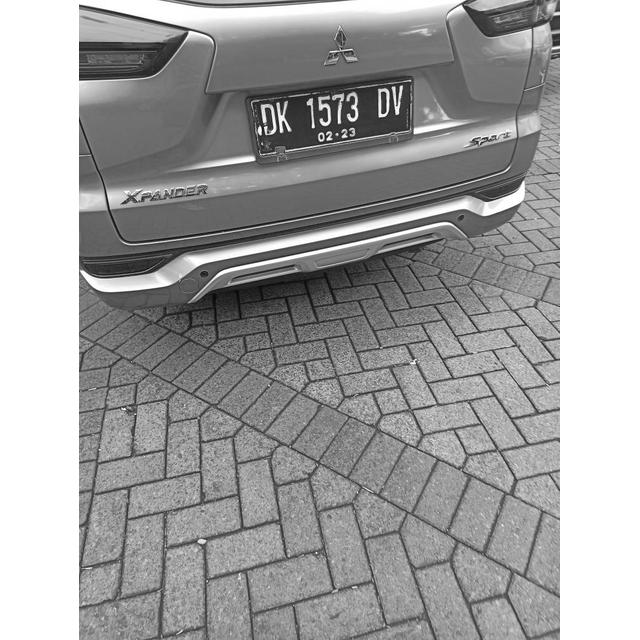license: (256, 84, 411, 143)
